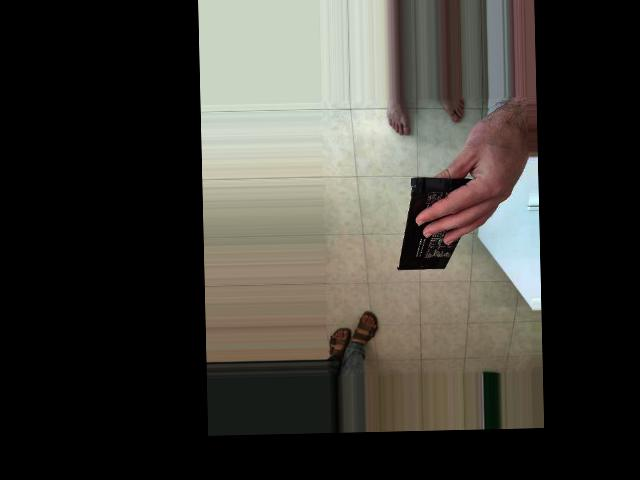chocolate: (321, 216, 429, 305)
